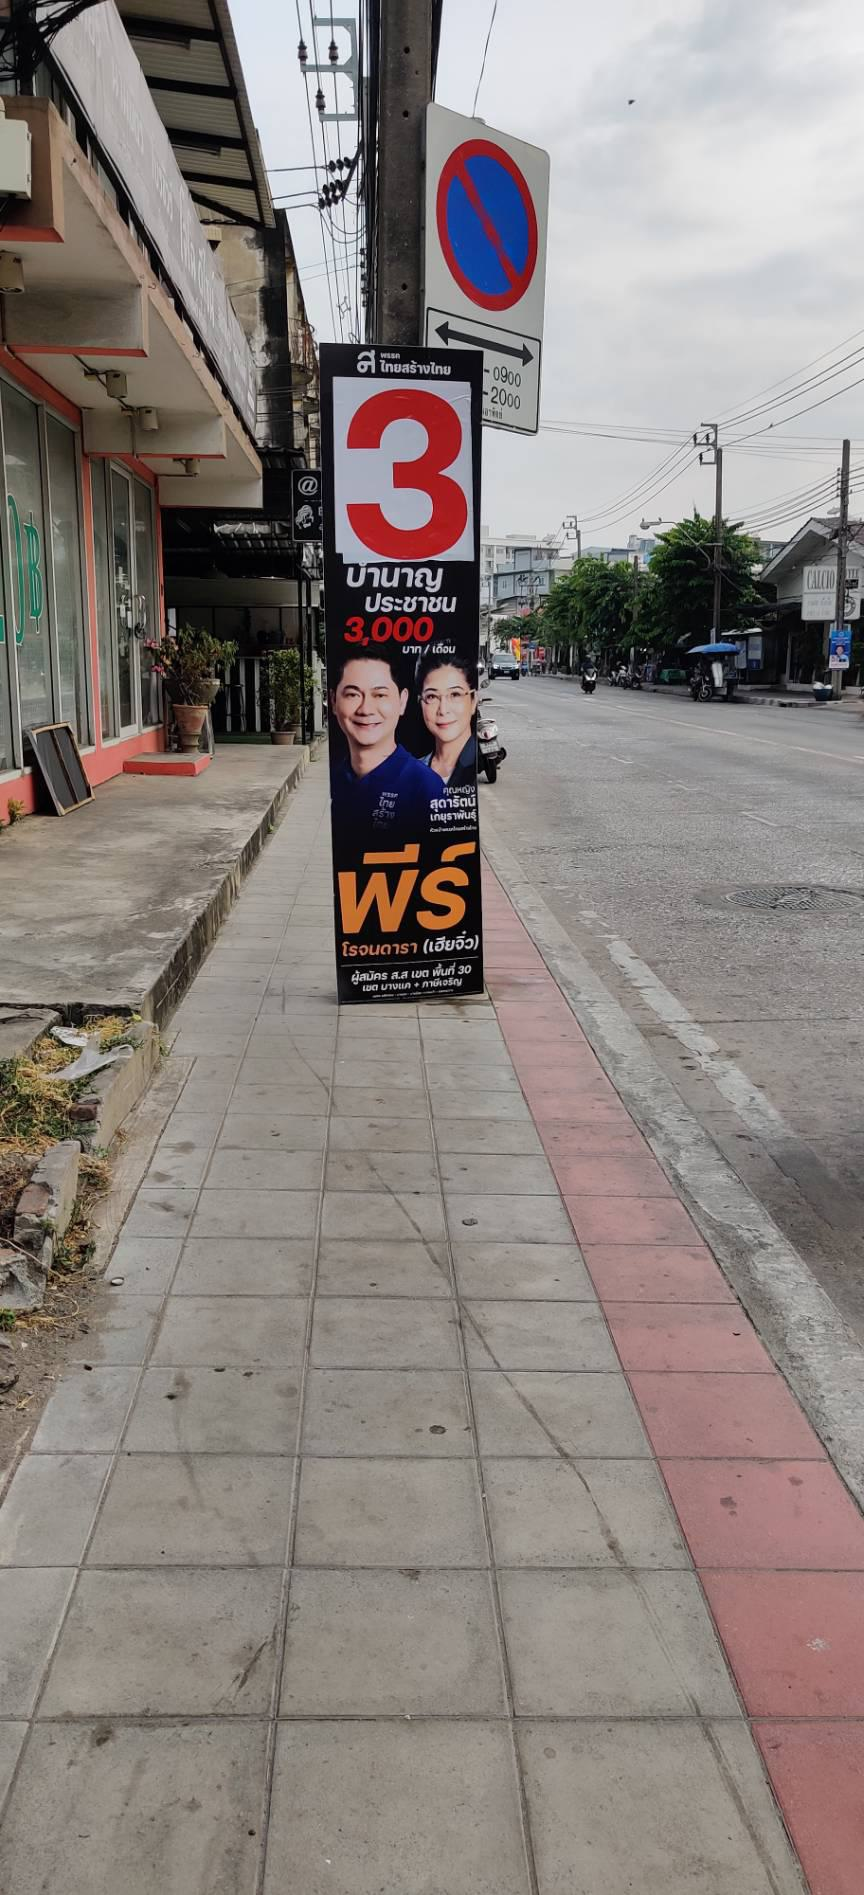Banner: (331, 350, 488, 1026)
